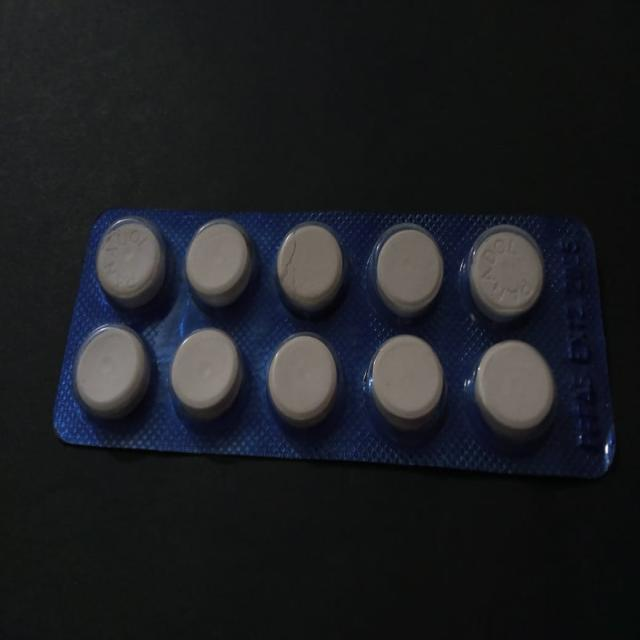defect: (274, 223, 345, 314)
